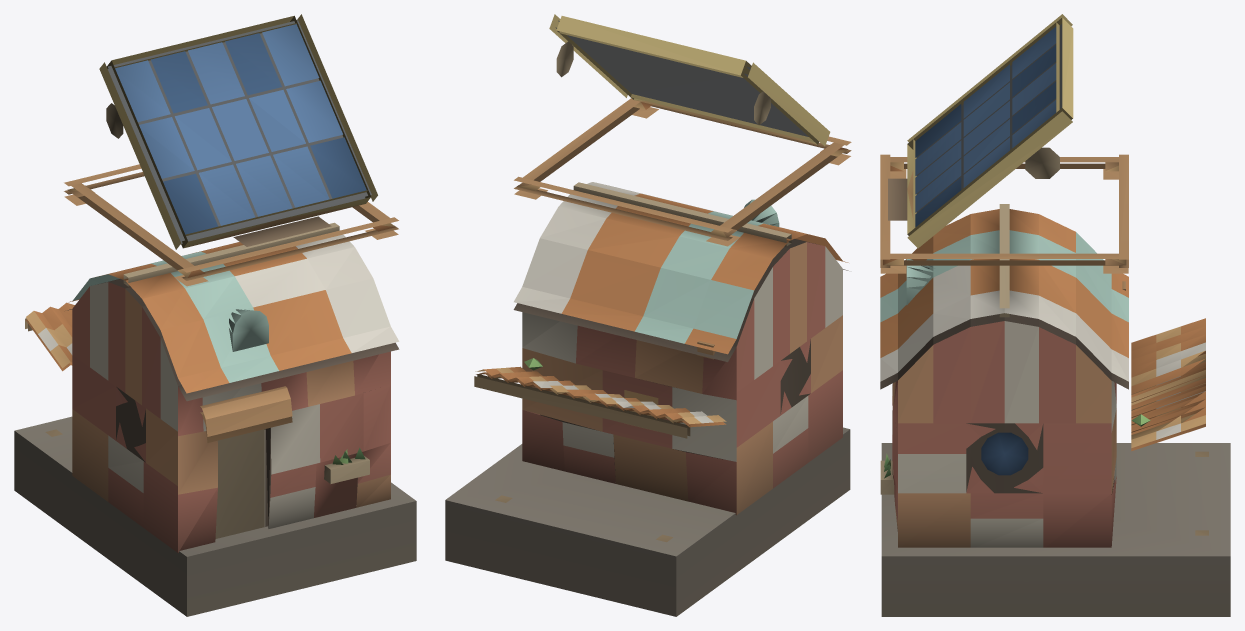
File: cottage.lod.glb
The picture shows the model from 3 angles, left to right: view 1: azimuth 30°, elevation 25°; view 2: azimuth 150°, elevation 25°; view 3: azimuth 270°, elevation 25°; orthographic projection.
Parts seen in each view (by area): view 1: cottage; view 2: cottage; view 3: cottage.
Boxes of the visible parts, x1,y1,x2,y2 form: cottage: [14, 14, 416, 616]; cottage: [445, 14, 851, 616]; cottage: [880, 14, 1230, 616].
Bounding box in the file's own units: 4.98 × 10.07 × 6.48.
